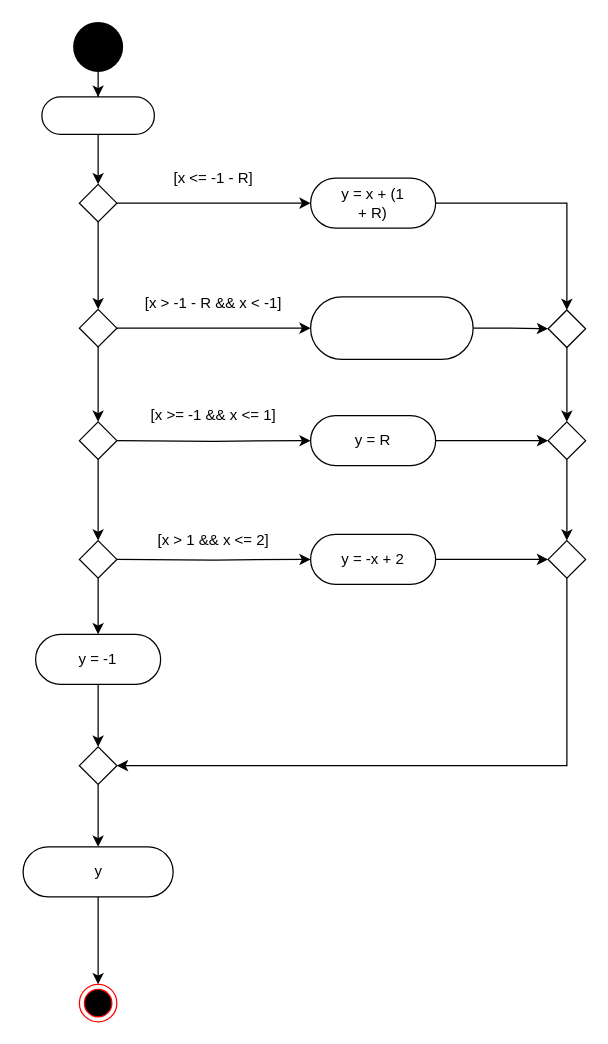
Image size: 608x1044. Some labels were removed from this diagram. The shapes that lost their labels are listed below. From the top down, each one's box as (x1, y1, x2, y2) in pixels, then its label:
(41, 96, 154, 134): ввід a b c x
(309, 296, 473, 359): y = sqrt(R * R - pow((x + 1), 2))
